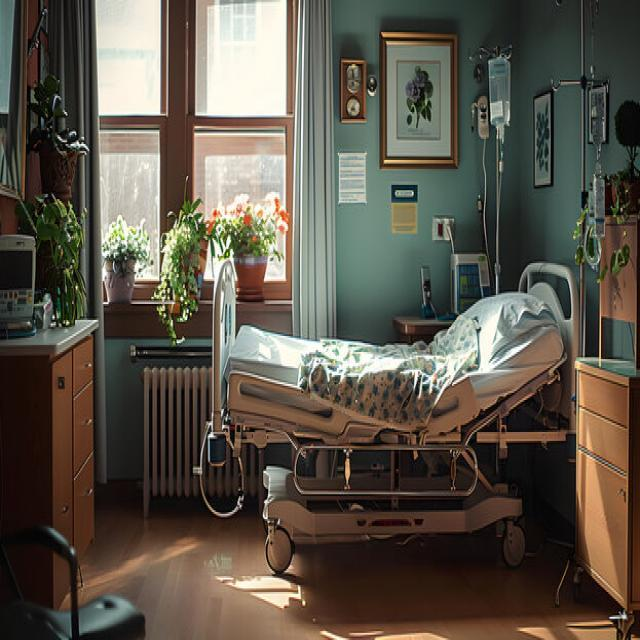bed: (203, 256, 580, 574)
